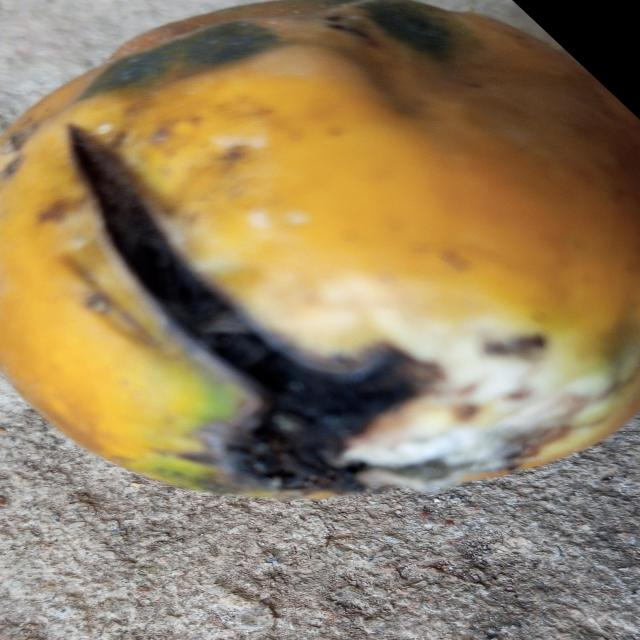damaged: (0, 0, 640, 499)
